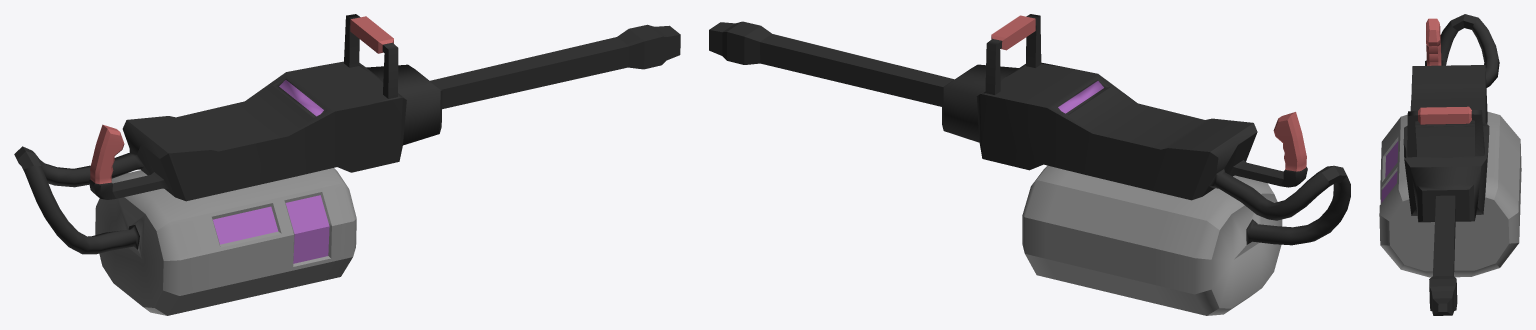
The model's file is bubble_gun.glb.
3 renders of one model, left to right at view 1: azimuth 30°, elevation 25°; view 2: azimuth 150°, elevation 25°; view 3: azimuth 270°, elevation 25°, orthographic. The views are drawn at different scales.
Visible parts, largest first — view 1: gun; view 2: gun; view 3: gun.
Part boxes in pixels (box(x1,y1,x2,y2)): gun: box(14, 14, 680, 315); gun: box(709, 14, 1350, 315); gun: box(1379, 14, 1521, 315).
Size of the model in its own units: 10.36 by 3.46 by 2.33.
